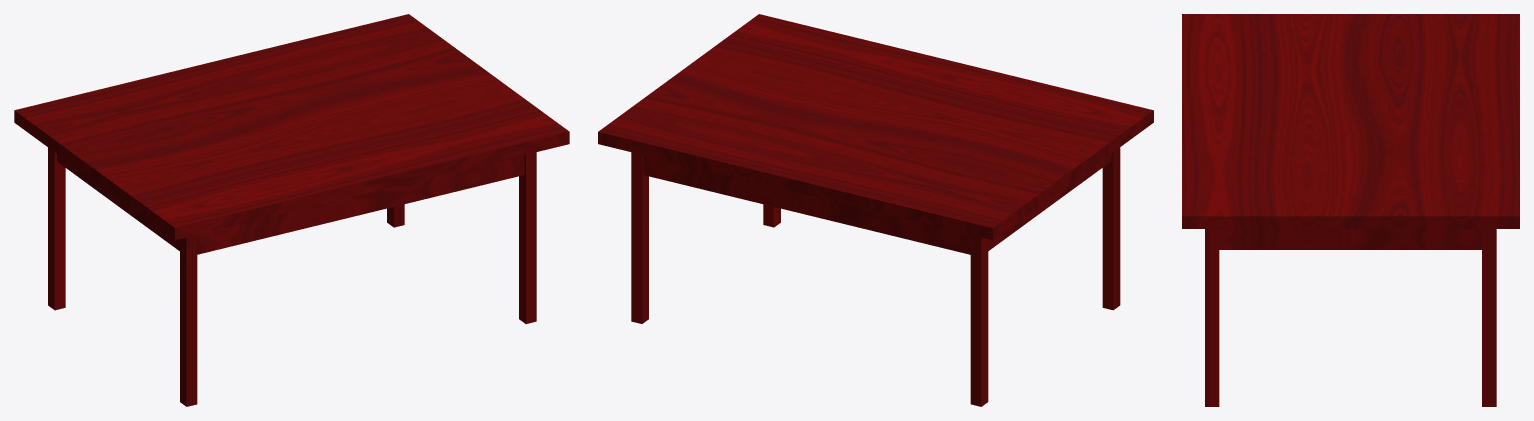
File: Comedor.obj
3 renders of one model, left to right at view 1: azimuth 30°, elevation 25°; view 2: azimuth 150°, elevation 25°; view 3: azimuth 270°, elevation 25°, orthographic. The views are drawn at different scales.
Visible parts, largest first — view 1: Comedor:table_Cube_126; view 2: Comedor:table_Cube_126; view 3: Comedor:table_Cube_126.
Boxes of the visible parts, x1,y1,x2,y2 form: Comedor:table_Cube_126: (14,14,569,406); Comedor:table_Cube_126: (598,14,1153,406); Comedor:table_Cube_126: (1182,14,1519,406).
Bounding box in the file's own units: 21.31 × 9.93 × 15.05.
1 material, 1 textured.
